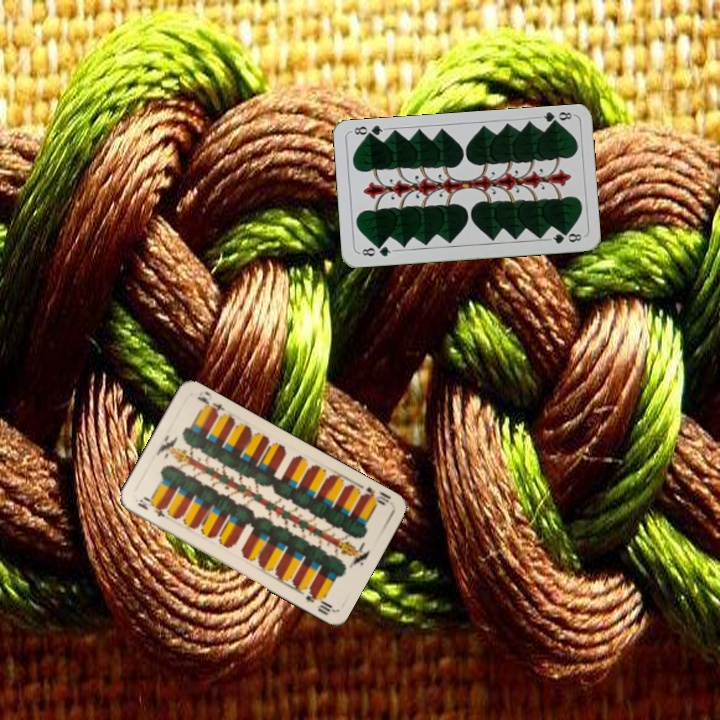E10: (354, 483, 393, 508), (133, 494, 168, 519)
G8: (535, 108, 576, 129), (356, 242, 396, 259)
